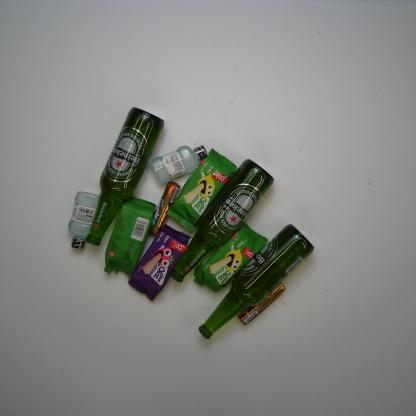Alcohol: (196, 223, 314, 341), (169, 158, 275, 284), (83, 107, 166, 247)
Candy: (237, 282, 287, 325), (148, 180, 181, 238)
Dessert: (164, 147, 237, 233), (192, 219, 269, 293), (127, 220, 193, 304), (103, 196, 157, 278)
Personal Hygiene: (148, 144, 210, 182), (67, 188, 101, 250)
